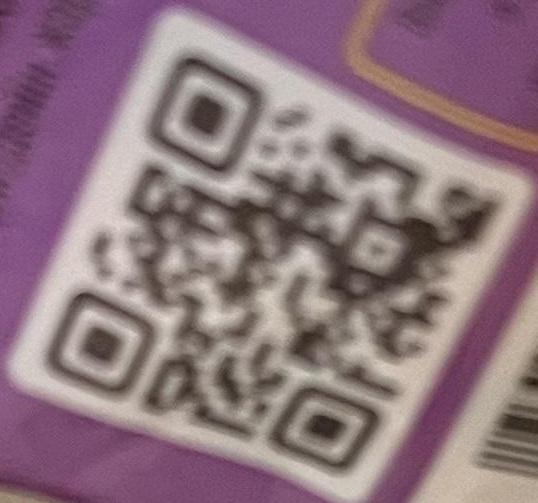qrcode: (47, 53, 498, 477)
